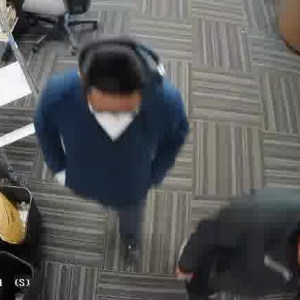person: (32, 47, 172, 247), (177, 194, 300, 297)
